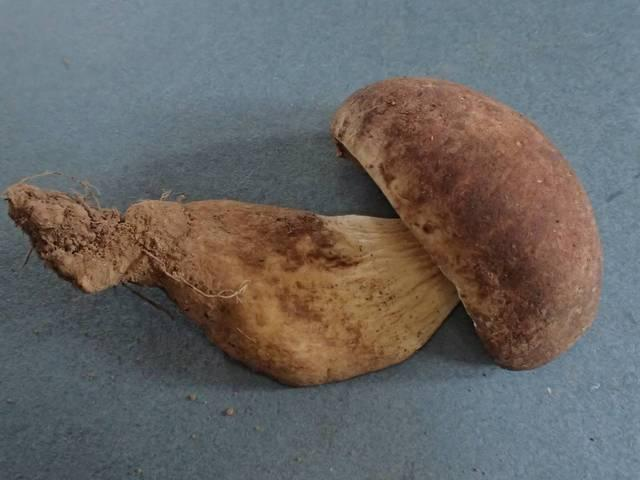Edible Mushroom: (19, 74, 604, 388)
